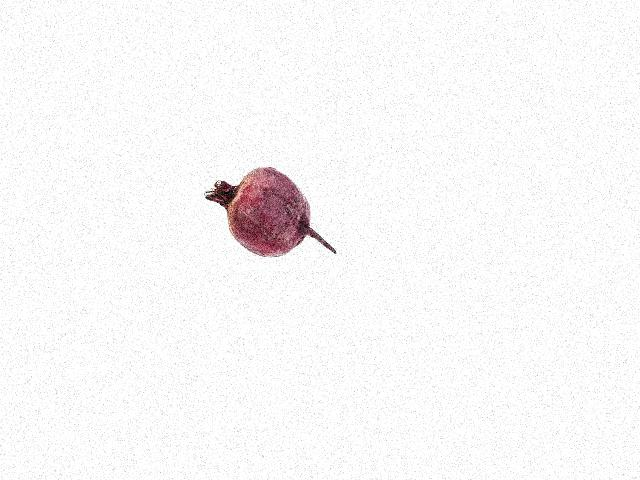beet: (204, 168, 334, 257)
